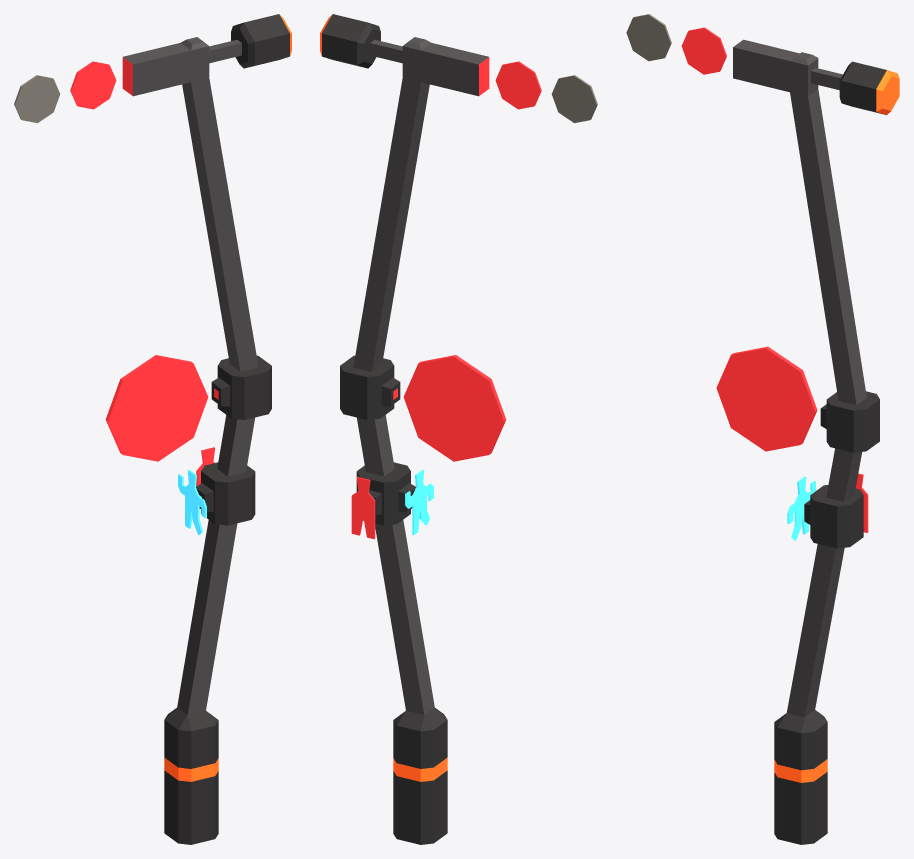
File: scifi_scifi-traffic-lights-corner-a.fbx
3 views of the same model, side by side, from view 1: azimuth 30°, elevation 25°; view 2: azimuth 150°, elevation 25°; view 3: azimuth 330°, elevation 25° (orthographic).
Visible parts, largest first — view 1: scifi_scifi_traffic_lights_corner_a; view 2: scifi_scifi_traffic_lights_corner_a; view 3: scifi_scifi_traffic_lights_corner_a.
Boxes of the visible parts, left/top/right/bottom form: scifi_scifi_traffic_lights_corner_a: left=14, top=14, right=291, bottom=844; scifi_scifi_traffic_lights_corner_a: left=320, top=14, right=597, bottom=844; scifi_scifi_traffic_lights_corner_a: left=626, top=14, right=899, bottom=844.
Bounding box in the file's own units: 70.53 × 200 × 15.58.
